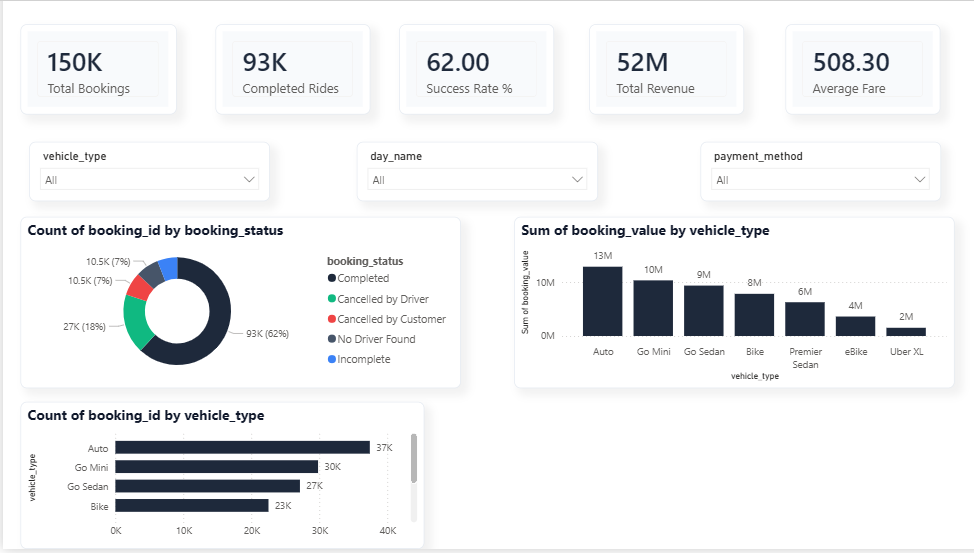

Layout of this report page (visuals, bound fields, positions):
{"tool":"powerbi","page":{"name":"Executive Overview","canvas":[1280,720],"ordinal":0},"visuals":[{"type":"cardVisual","fields":{"Data":["ride_hailing_cleaned.Completed Rides"]},"box":[266.2,64.5,193.5,112.5],"z":1000},{"type":"cardVisual","fields":{"Data":["ride_hailing_cleaned.Success Rate %"]},"box":[495.4,64.5,193.5,112.5],"z":2000},{"type":"cardVisual","fields":{"Data":["ride_hailing_cleaned.Total Revenue"]},"box":[732.8,64.5,193.5,112.5],"z":3000},{"type":"cardVisual","fields":{"Data":["ride_hailing_cleaned.Average Fare"]},"box":[978.4,64.5,193.5,112.5],"z":4000},{"type":"slicer","fields":{"Values":["ride_hailing_cleaned.vehicle_type"]},"box":[32.9,211.3,301,74],"z":5000},{"type":"slicer","fields":{"Values":["ride_hailing_cleaned.payment_method"]},"box":[871.4,211.3,300.5,74.1],"z":6000},{"type":"slicer","fields":{"Values":["ride_hailing_cleaned.day_name"]},"box":[441.9,211.3,301.9,74.1],"z":7000},{"type":"donutChart","fields":{"Category":["ride_hailing_cleaned.booking_status"],"Y":["CountNonNull(ride_hailing_cleaned.booking_id)"]},"box":[22,304.6,550.3,214.1],"z":8000},{"type":"cardVisual","fields":{"Data":["ride_hailing_cleaned.Total Bookings"]},"box":[22,64.5,194.9,112.5],"z":9000},{"type":"clusteredBarChart","fields":{"Category":["ride_hailing_cleaned.vehicle_type"],"Y":["CountNonNull(ride_hailing_cleaned.booking_id)"]},"box":[22,536.5,505,183.9],"z":11000},{"type":"clusteredColumnChart","fields":{"Category":["ride_hailing_cleaned.vehicle_type"],"Y":["Sum(ride_hailing_cleaned.booking_value)"]},"box":[639.5,304.6,550.3,214.1],"z":12000}]}

Visuals, with their boxes in screenshot pixels (x1, y1, x2, y2), scaled from the page's 1280x720 canvas onto the 974x553 screenshot:
cardVisual - ride_hailing_cleaned.Completed Rides: detection(203, 50, 350, 136)
cardVisual - ride_hailing_cleaned.Success Rate %: detection(377, 50, 524, 136)
cardVisual - ride_hailing_cleaned.Total Revenue: detection(558, 50, 705, 136)
cardVisual - ride_hailing_cleaned.Average Fare: detection(745, 50, 892, 136)
slicer - ride_hailing_cleaned.vehicle_type: detection(25, 162, 254, 219)
slicer - ride_hailing_cleaned.payment_method: detection(663, 162, 892, 219)
slicer - ride_hailing_cleaned.day_name: detection(336, 162, 566, 219)
donutChart - ride_hailing_cleaned.booking_status x CountNonNull(ride_hailing_cleaned.booking_id): detection(17, 234, 435, 398)
cardVisual - ride_hailing_cleaned.Total Bookings: detection(17, 50, 165, 136)
clusteredBarChart - ride_hailing_cleaned.vehicle_type x CountNonNull(ride_hailing_cleaned.booking_id): detection(17, 412, 401, 552)
clusteredColumnChart - ride_hailing_cleaned.vehicle_type x Sum(ride_hailing_cleaned.booking_value): detection(487, 234, 905, 398)
